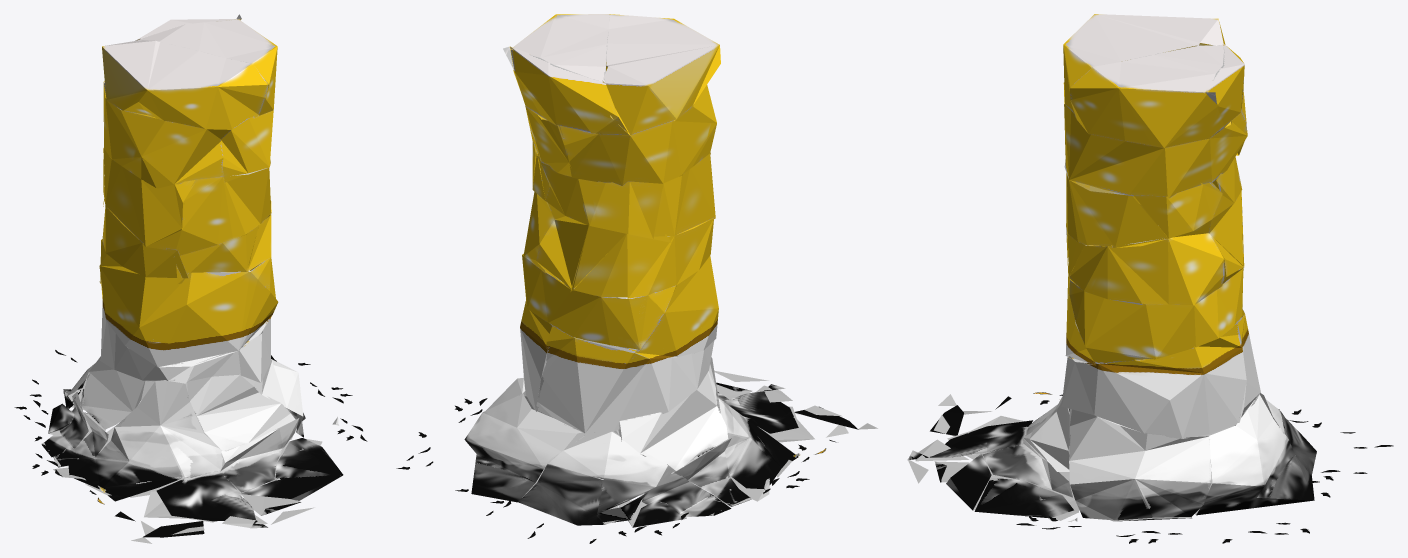
The model's file is cigarette_shorter4e.glb.
The picture shows the model from 3 angles, left to right: view 1: azimuth 30°, elevation 25°; view 2: azimuth 150°, elevation 25°; view 3: azimuth 270°, elevation 25°; orthographic projection. The views are drawn at different scales.
Parts seen in each view (by area): view 1: tripo_node_c5ac0d31-c7cd-43ed-b644-0830fcdc9b5b; view 2: tripo_node_c5ac0d31-c7cd-43ed-b644-0830fcdc9b5b; view 3: tripo_node_c5ac0d31-c7cd-43ed-b644-0830fcdc9b5b.
Part boxes in pixels (x1,y1,x2,y2): tripo_node_c5ac0d31-c7cd-43ed-b644-0830fcdc9b5b: [41, 14, 343, 543]; tripo_node_c5ac0d31-c7cd-43ed-b644-0830fcdc9b5b: [464, 14, 877, 527]; tripo_node_c5ac0d31-c7cd-43ed-b644-0830fcdc9b5b: [907, 14, 1316, 521].
Bounding box in the file's own units: 0.4331 × 0.5107 × 0.5203.
Materials: 67 (3 with a texture image).
